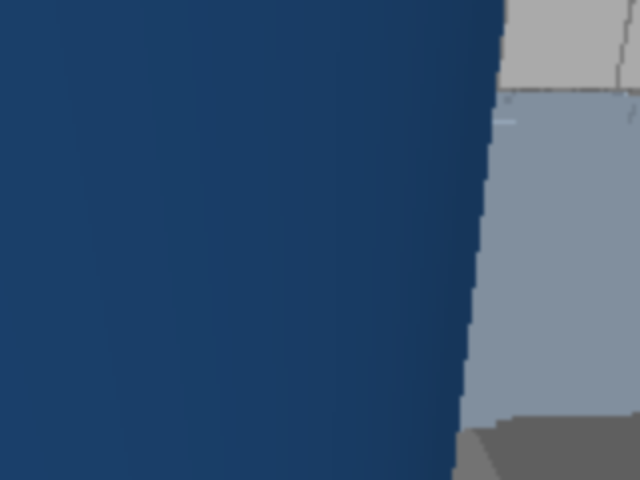goal_zone: (0, 169, 34, 180)
obstacle: (207, 176, 250, 217)
person: (76, 0, 204, 180)
puck: (303, 258, 328, 280)
